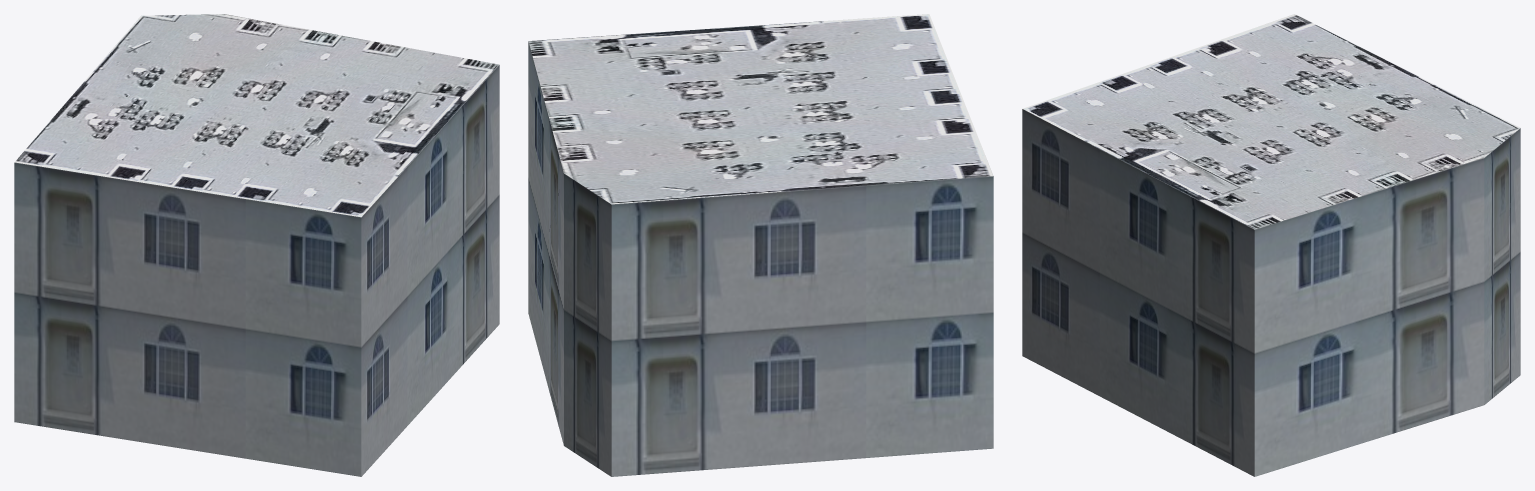
File: ResTex__1531.fbx
3 renders of one model, left to right at view 1: azimuth 30°, elevation 25°; view 2: azimuth 150°, elevation 25°; view 3: azimuth 270°, elevation 25°, orthographic. The views are drawn at different scales.
Visible parts, largest first — view 1: CityEngineMaterial_17_m, CityEngineMaterial_4_m; view 2: CityEngineMaterial_17_m, CityEngineMaterial_4_m; view 3: CityEngineMaterial_17_m, CityEngineMaterial_4_m.
Boxes of the visible parts, bbox=[...] form: CityEngineMaterial_17_m: bbox=[14, 65, 499, 476]; CityEngineMaterial_4_m: bbox=[14, 14, 498, 217]; CityEngineMaterial_17_m: bbox=[528, 41, 993, 476]; CityEngineMaterial_4_m: bbox=[528, 14, 993, 204]; CityEngineMaterial_17_m: bbox=[1022, 109, 1520, 476]; CityEngineMaterial_4_m: bbox=[1022, 14, 1519, 229].
Size of the model in its own units: 11.22 by 6 by 10.96.
Materials: 2 (2 with a texture image).
